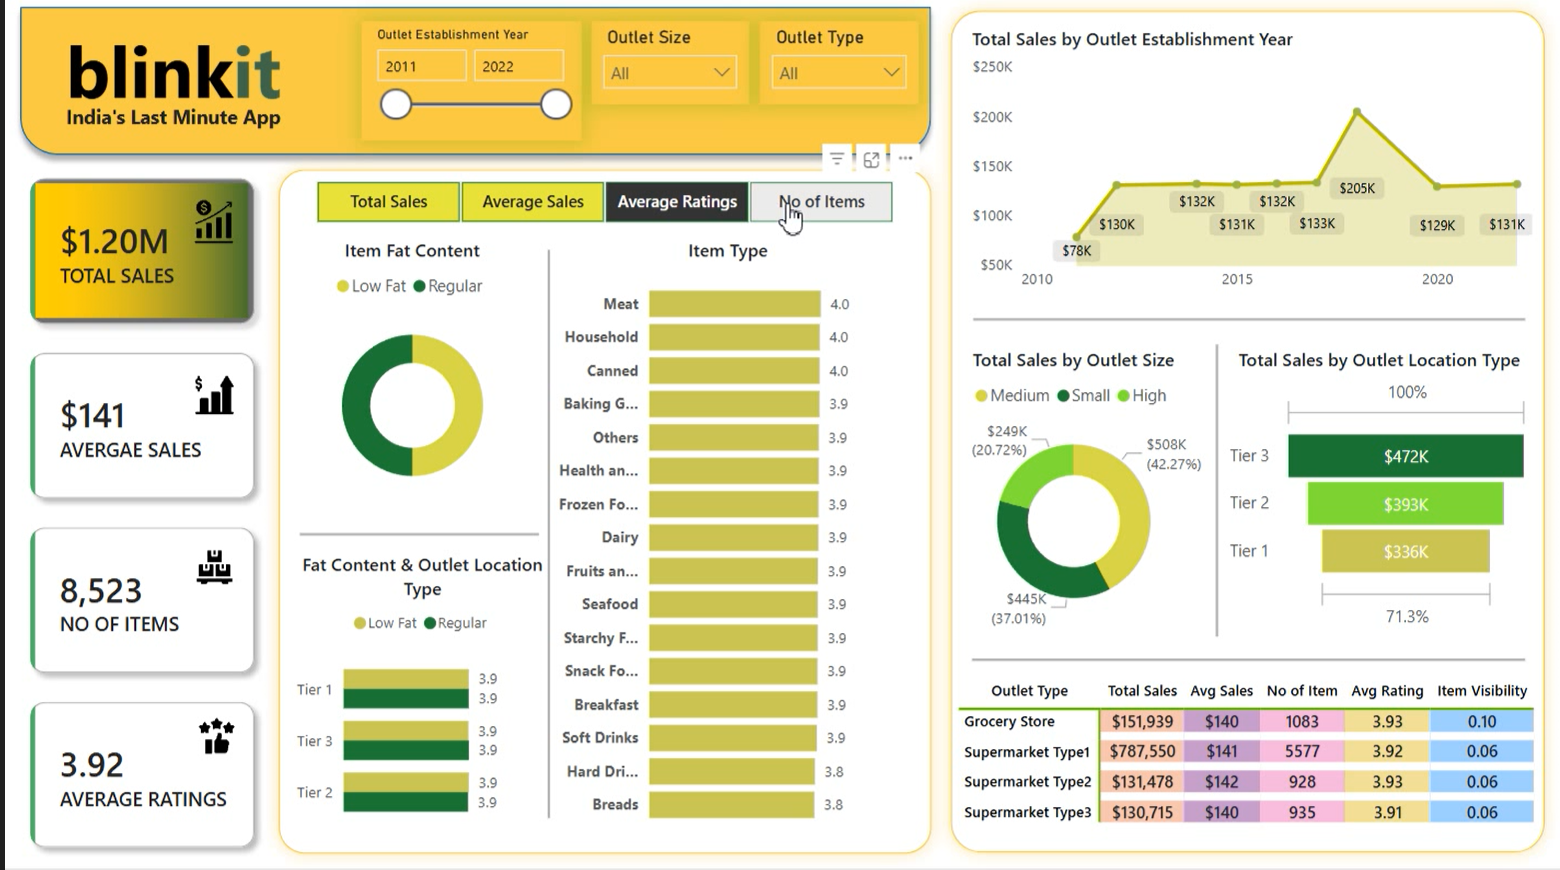

The dashboard page shown, as its layout file describes it:
{"tool":"powerbi","page":{"name":"Page 1","canvas":[1280,720],"ordinal":0},"visuals":[{"type":"cardVisual","fields":{"Data":["Sheet1.TOTAL SALES","Avg(Sheet1.Sales)","CountNonNull(Sheet1.Item Identifier)","Avg(Sheet1.Rating)"]},"box":[0,132.7,220,587.3],"z":0},{"type":"card","fields":{"Values":["CountNonNull(Sheet1.Item Identifier)"]},"box":[904.3,265.7,265.7,142.9],"z":1000},{"type":"shape","box":[0,0,770,140],"z":2000},{"type":"textbox","box":[41.8,15.5,256.4,90],"z":3000},{"type":"textbox","box":[41.8,83.6,270,42.7],"z":4000},{"type":"shape","box":[210,131.4,562.9,588.6],"z":5000},{"type":"slicer","fields":{"Values":["Parameter.Parameter"]},"box":[228.9,146.7,524.4,46.7],"z":6000},{"type":"donutChart","title":"Item Fat Content","fields":{"Y":["Sheet1.Total Sales"],"Category":["Sheet1.Item Fat Content"]},"box":[227.6,198.8,209.8,227.6],"z":7000},{"type":"clusteredBarChart","title":"Fat Content & Outlet Location Type","fields":{"Y":["Sheet1.Total Sales"],"Category":["Sheet1.Outlet Location Type"],"Series":["Sheet1.Item Fat Content"]},"box":[229,457.9,224.9,238.6],"z":8000},{"type":"shape","box":[765.7,0,514.3,718.6],"z":9000},{"type":"slicer","fields":{"Values":["Sheet1.Outlet Establishment Year"]},"box":[290.9,20,181.8,99.1],"z":10000},{"type":"stackedAreaChart","title":"Total Sales by Outlet Establishment Year","fields":{"Y":["Sum(Sheet1.Sales)"],"Category":["Sheet1.Outlet Establishment Year"]},"box":[790,24.3,472.9,227.1],"z":11000},{"type":"donutChart","title":"Total Sales by Outlet Size","fields":{"Category":["Sheet1.Outlet Size"],"Y":["Sum(Sheet1.Sales)"]},"box":[760,290,236.7,237.8],"z":12000},{"type":"funnel","title":"Total Sales by Outlet Location Type","fields":{"Category":["Sheet1.Outlet Location Type"],"Y":["Sum(Sheet1.Sales)"]},"box":[1002.2,290,257.8,237.8],"z":13000},{"type":"pivotTable","fields":{"Rows":["Sheet1.Outlet Type"],"Values":["Sum(Sheet1.Sales)","Avg(Sheet1.Sales)","CountNonNull(Sheet1.Item Identifier)","Avg(Sheet1.Rating)","Avg(Sheet1.Item Visibility)"]},"box":[778.8,559.4,493.6,142.6],"z":14000},{"type":"shape","box":[239.9,416.8,197.4,54.8],"z":15000},{"type":"shape","box":[338.6,209.8,213.9,468.9],"z":16000},{"type":"barChart","title":"Item Type","fields":{"Y":["Sheet1.Total Sales"],"Category":["Sheet1.Item Type"]},"box":[437.4,198.8,312.6,494.9],"z":17000},{"type":"shape","box":[795.7,255.7,455.7,21.4],"z":18000},{"type":"shape","box":[794.4,537.8,456.7,20],"z":19000},{"type":"shape","box":[890,287.8,213.3,241.1],"z":20000},{"type":"slicer","fields":{"Values":["Sheet1.Outlet Type"]},"box":[620,20,130.9,69.1],"z":21000},{"type":"slicer","fields":{"Values":["Sheet1.Outlet Size"]},"box":[480.9,20,130,69.1],"z":22000},{"type":"image","box":[145.7,162.9,47.1,47.1],"z":23000},{"type":"image","box":[145.7,307.1,47.1,44.3],"z":24000},{"type":"image","box":[149.3,451.4,40,40.7],"z":25000},{"type":"image","box":[149.1,590.9,43.6,40],"z":26000}]}

Visuals, with their boxes in screenshot pixels (x1, y1, x2, y2), scaled from the page's 1280x720 canvas onto the 1560x870 screenshot:
cardVisual - Sheet1.TOTAL SALES x Avg(Sheet1.Sales): (0, 160, 268, 869)
card - CountNonNull(Sheet1.Item Identifier): (1102, 321, 1426, 494)
shape: (0, 0, 938, 169)
textbox: (51, 19, 363, 127)
textbox: (51, 101, 380, 153)
shape: (256, 159, 942, 869)
slicer - Parameter.Parameter: (279, 177, 918, 234)
"Item Fat Content" donutChart: (277, 240, 533, 515)
"Fat Content & Outlet Location Type" clusteredBarChart: (279, 553, 553, 842)
shape: (933, 0, 1559, 868)
slicer - Sheet1.Outlet Establishment Year: (355, 24, 576, 144)
"Total Sales by Outlet Establishment Year" stackedAreaChart: (963, 29, 1539, 304)
"Total Sales by Outlet Size" donutChart: (926, 350, 1215, 638)
"Total Sales by Outlet Location Type" funnel: (1221, 350, 1536, 638)
pivotTable - Sheet1.Outlet Type x Sum(Sheet1.Sales): (949, 676, 1551, 848)
shape: (292, 504, 533, 570)
shape: (413, 254, 673, 820)
"Item Type" barChart: (533, 240, 914, 838)
shape: (970, 309, 1525, 335)
shape: (968, 650, 1525, 674)
shape: (1085, 348, 1345, 639)
slicer - Sheet1.Outlet Type: (756, 24, 915, 108)
slicer - Sheet1.Outlet Size: (586, 24, 745, 108)
image: (178, 197, 235, 254)
image: (178, 371, 235, 425)
image: (182, 545, 231, 595)
image: (182, 714, 235, 762)
